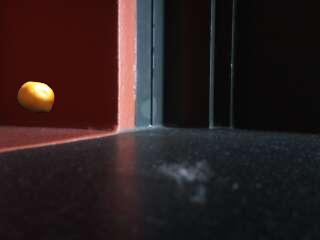Potato: (17, 82, 56, 114)
